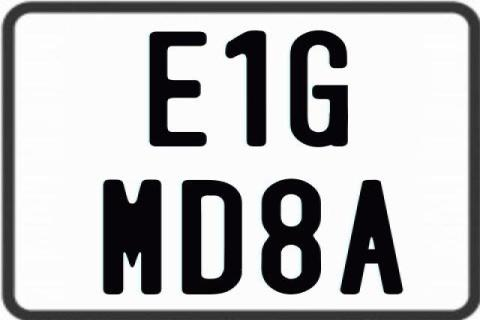0: (258, 178, 324, 296), (225, 29, 270, 149)
A: (339, 179, 406, 296)
D: (183, 179, 246, 295)
E: (148, 29, 206, 145)
G: (288, 30, 350, 152)
M: (104, 177, 166, 293)
